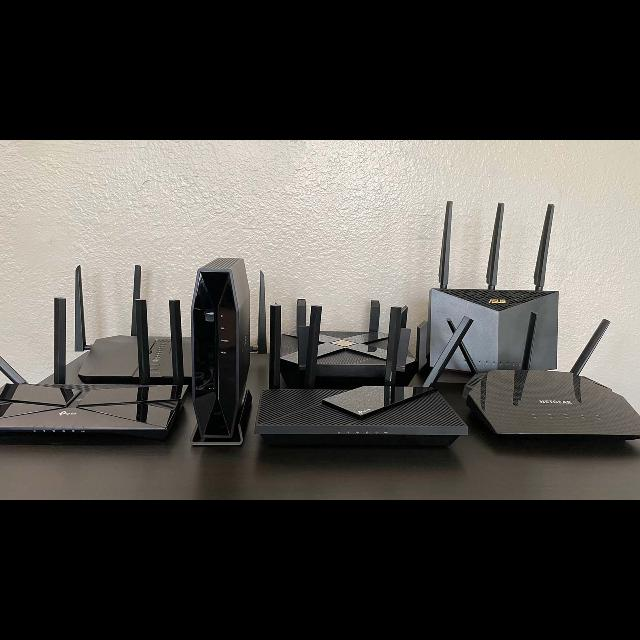Router: (254, 306, 476, 447), (0, 298, 184, 440), (445, 317, 640, 437), (430, 202, 559, 366)
